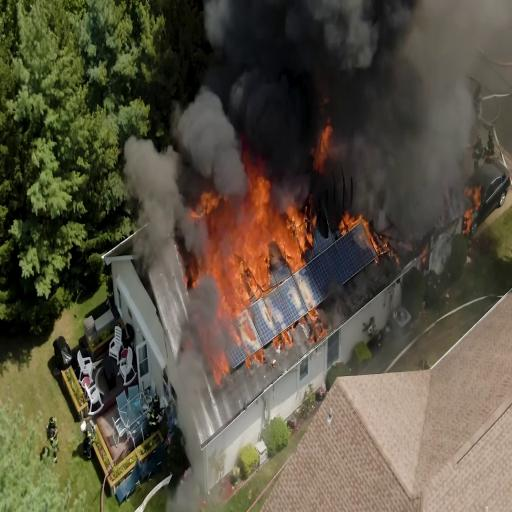fire: (202, 185, 295, 293)
smoke: (366, 41, 452, 205)
